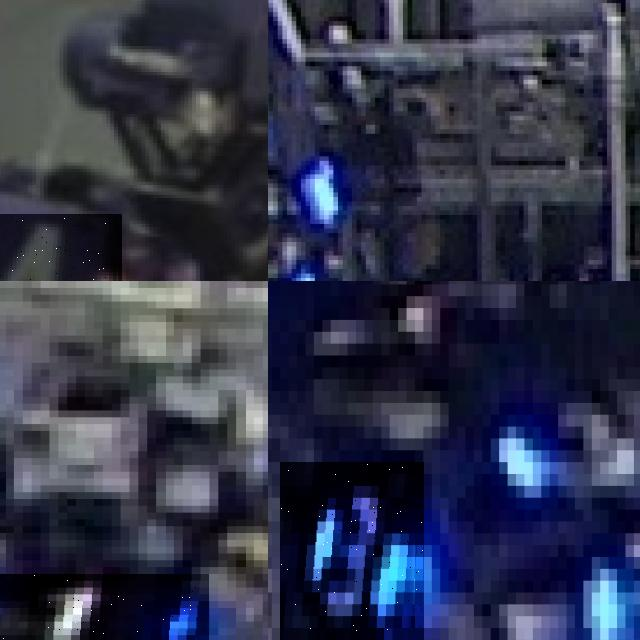B1: (0, 574, 209, 640)
B3: (280, 462, 424, 640), (541, 509, 640, 640)
R4: (0, 214, 121, 281)
